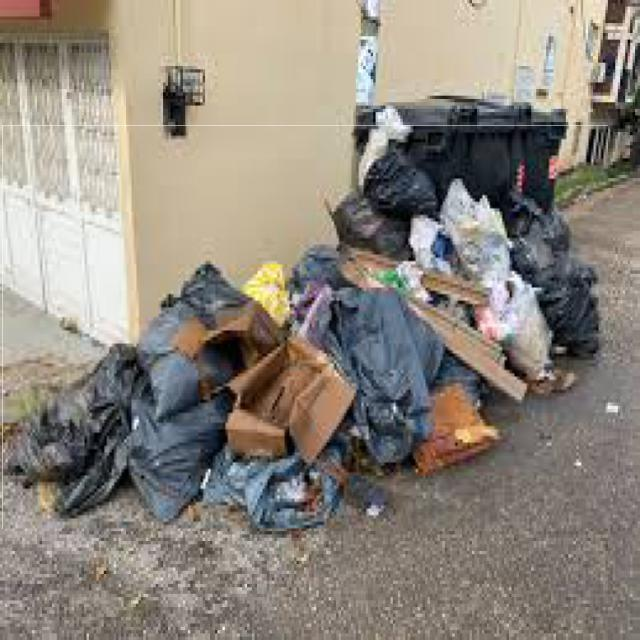Trashbag: (505, 200, 605, 342), (136, 399, 230, 513), (137, 301, 229, 413), (19, 388, 99, 485), (87, 343, 147, 418), (330, 198, 406, 250), (373, 148, 433, 209), (185, 263, 260, 308)
